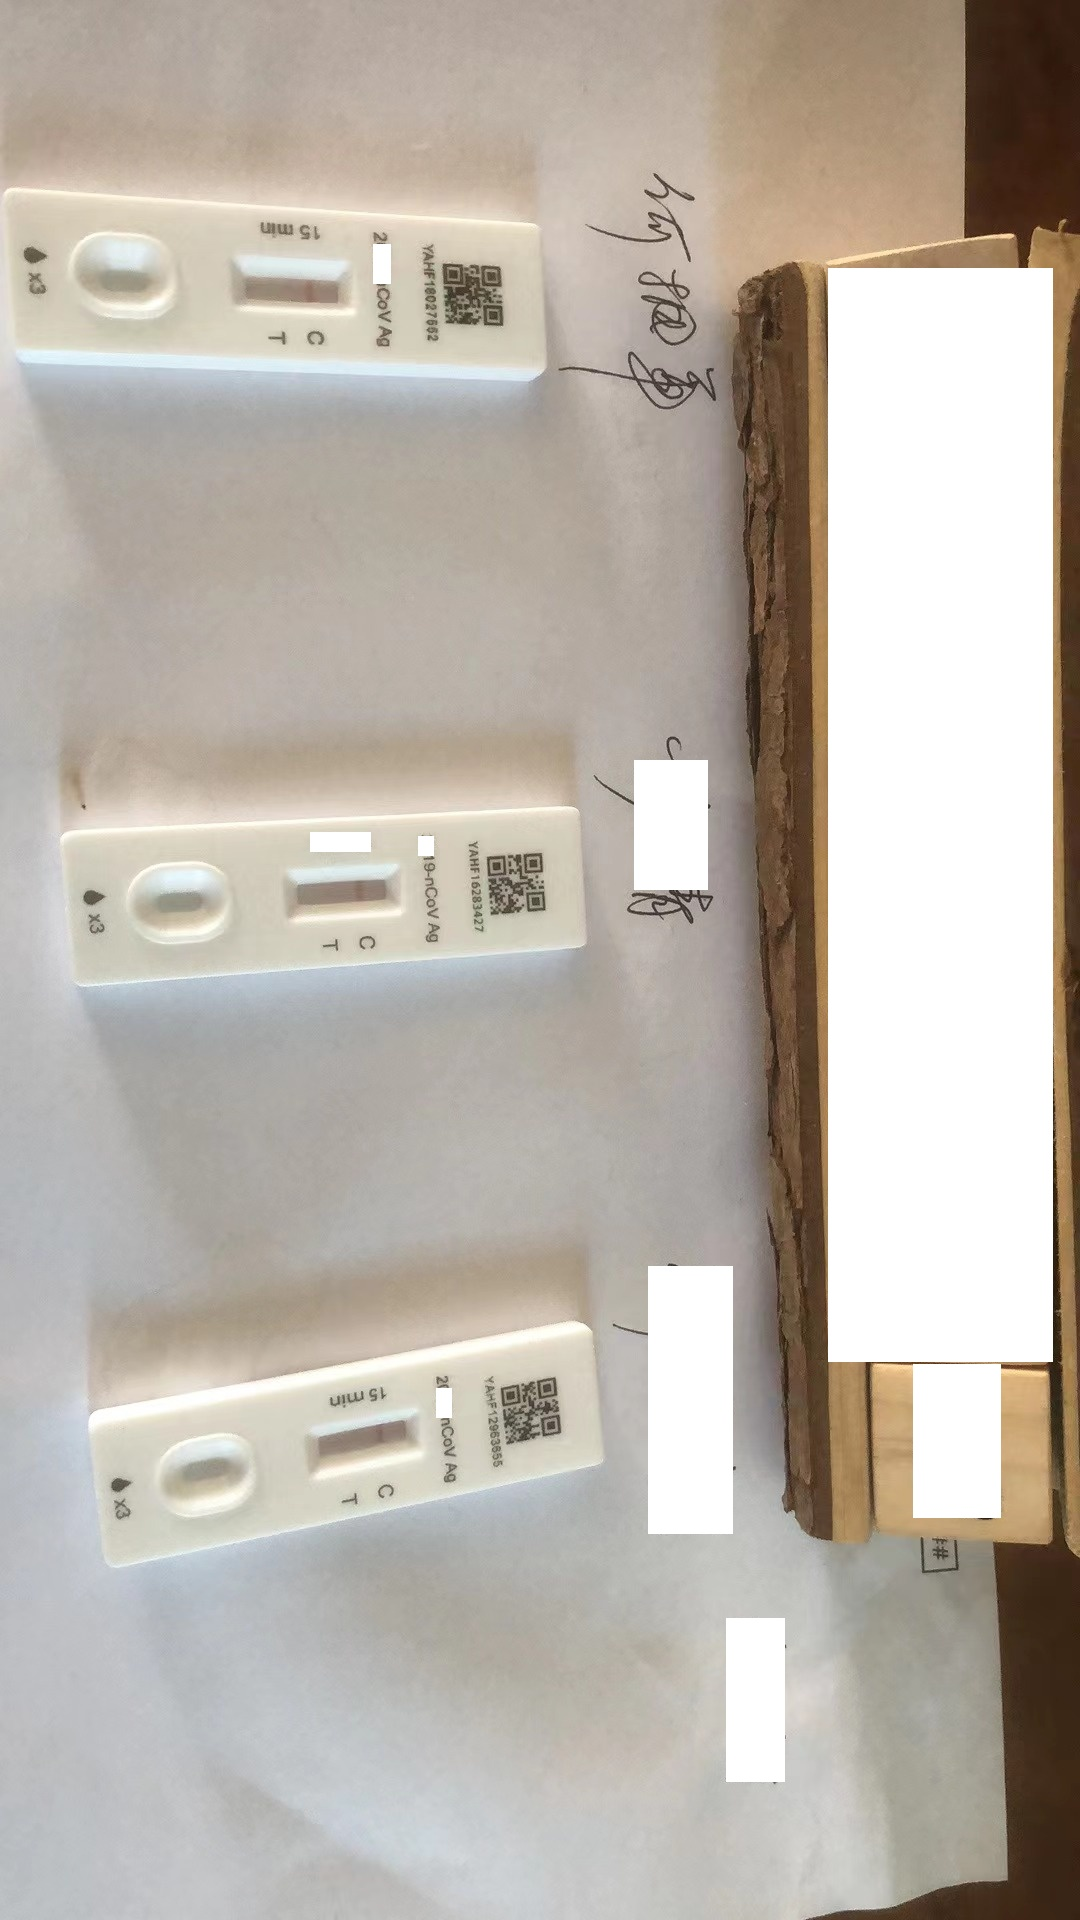negative: (282, 855, 407, 923), (224, 251, 360, 313)
